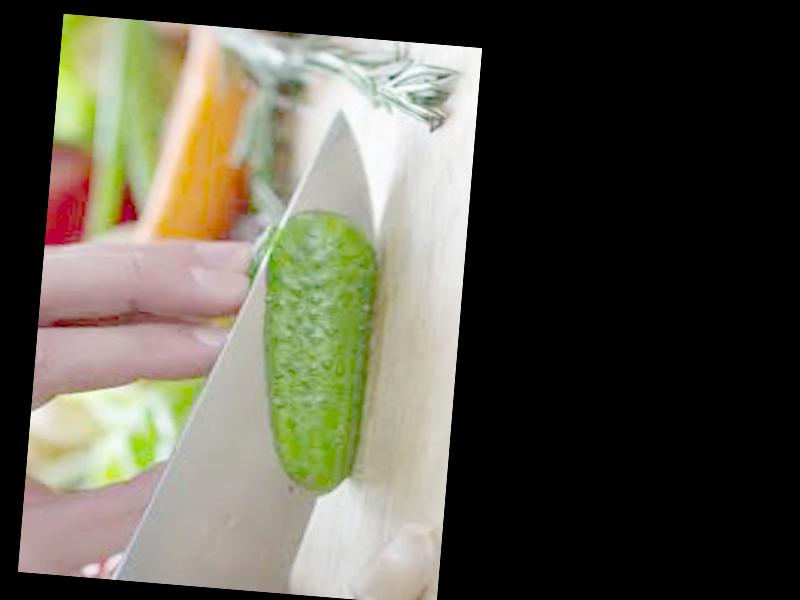Cucumber: (248, 205, 386, 496)
